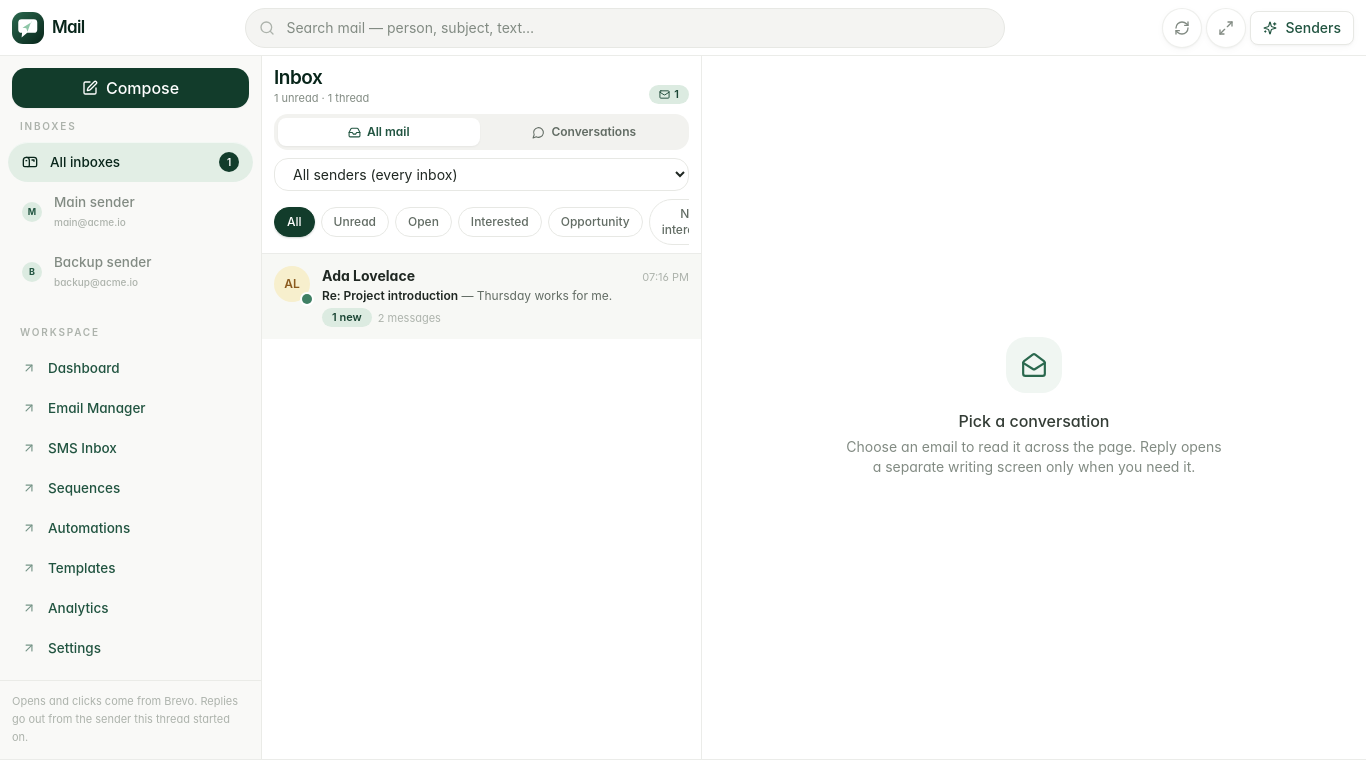
EmailInboxPage — reading first, reply on its own page › keeps the draft after a network failure and never sends it twice on a double click
Step 1. Click the button "Ada Lovelace" → [482, 297], box [262,254,701,339]
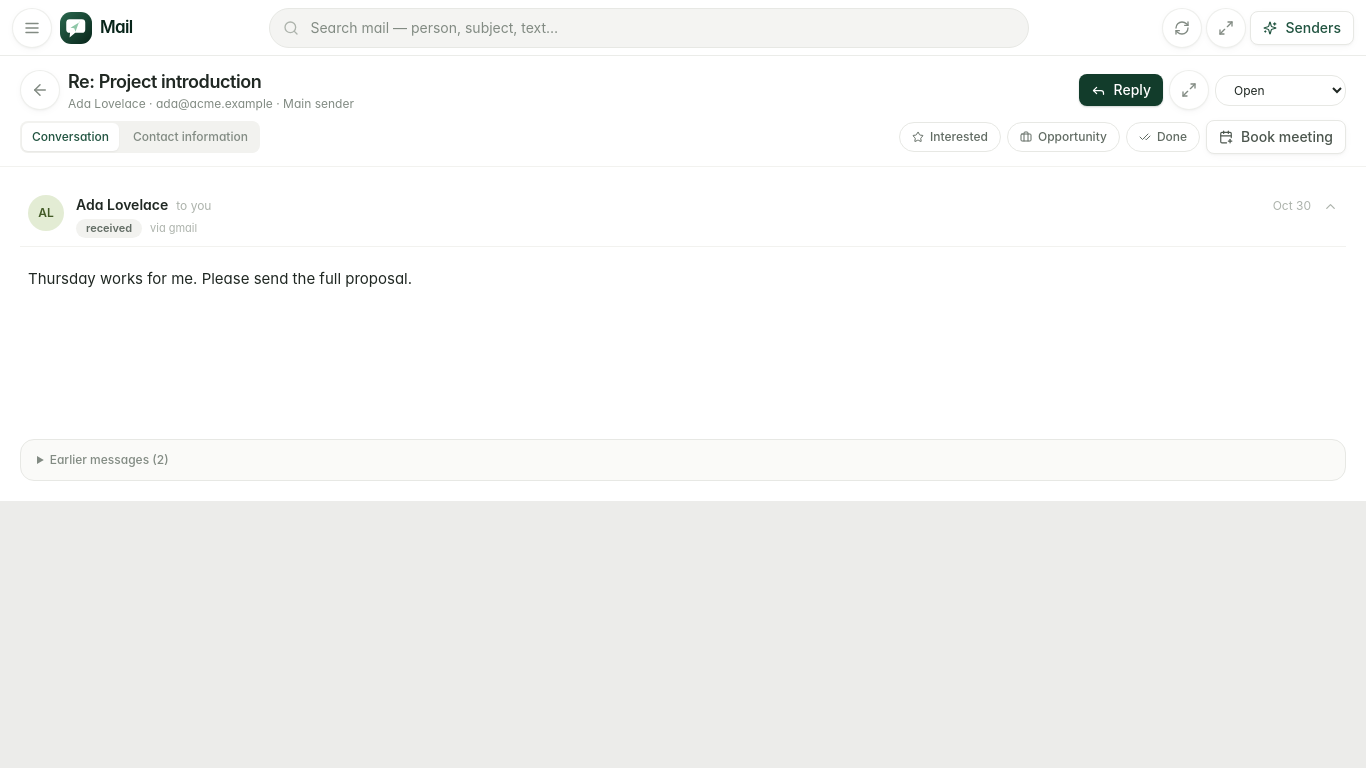
Step 2. Click the button "Reply" → [1121, 90], box [1079,74,1163,106]
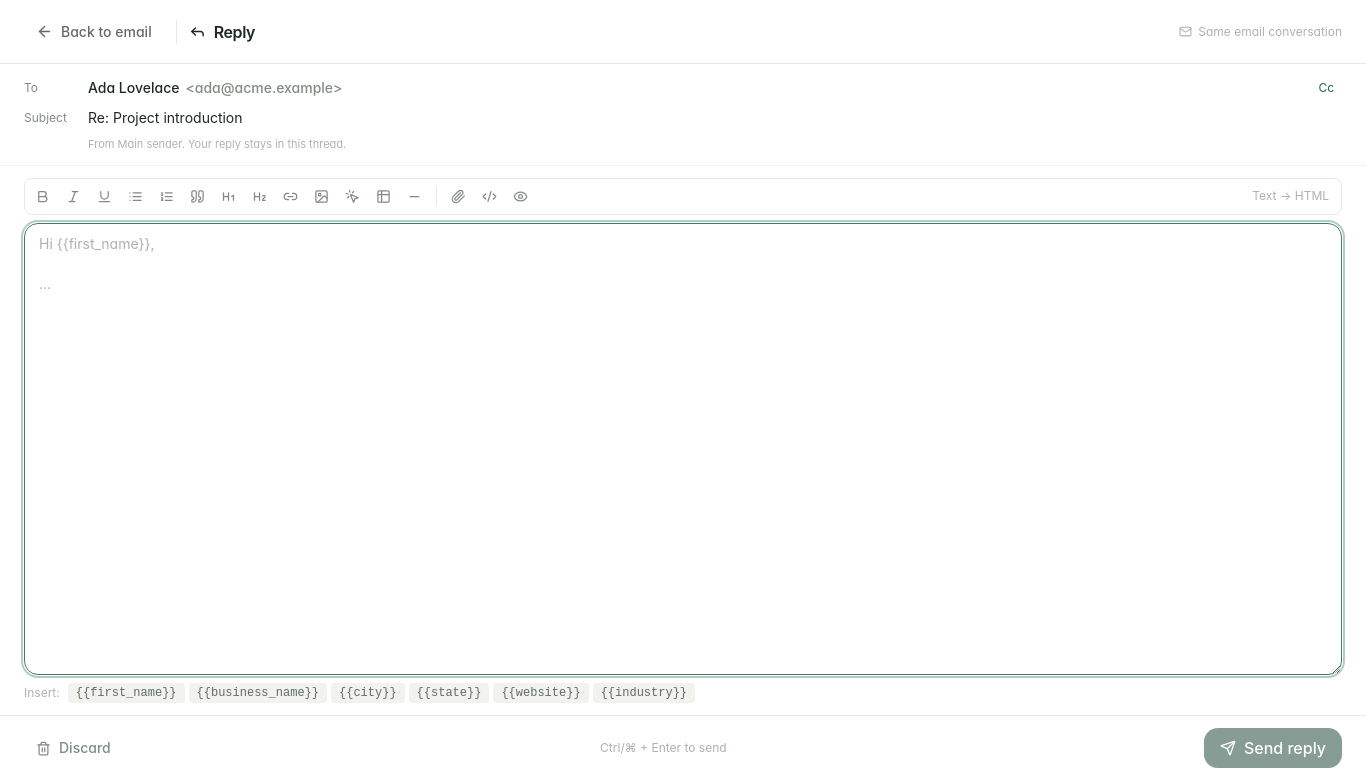
Step 3. Type "Keep this draft" into the text box named "Reply message" → [683, 449], box [24,222,1342,675]
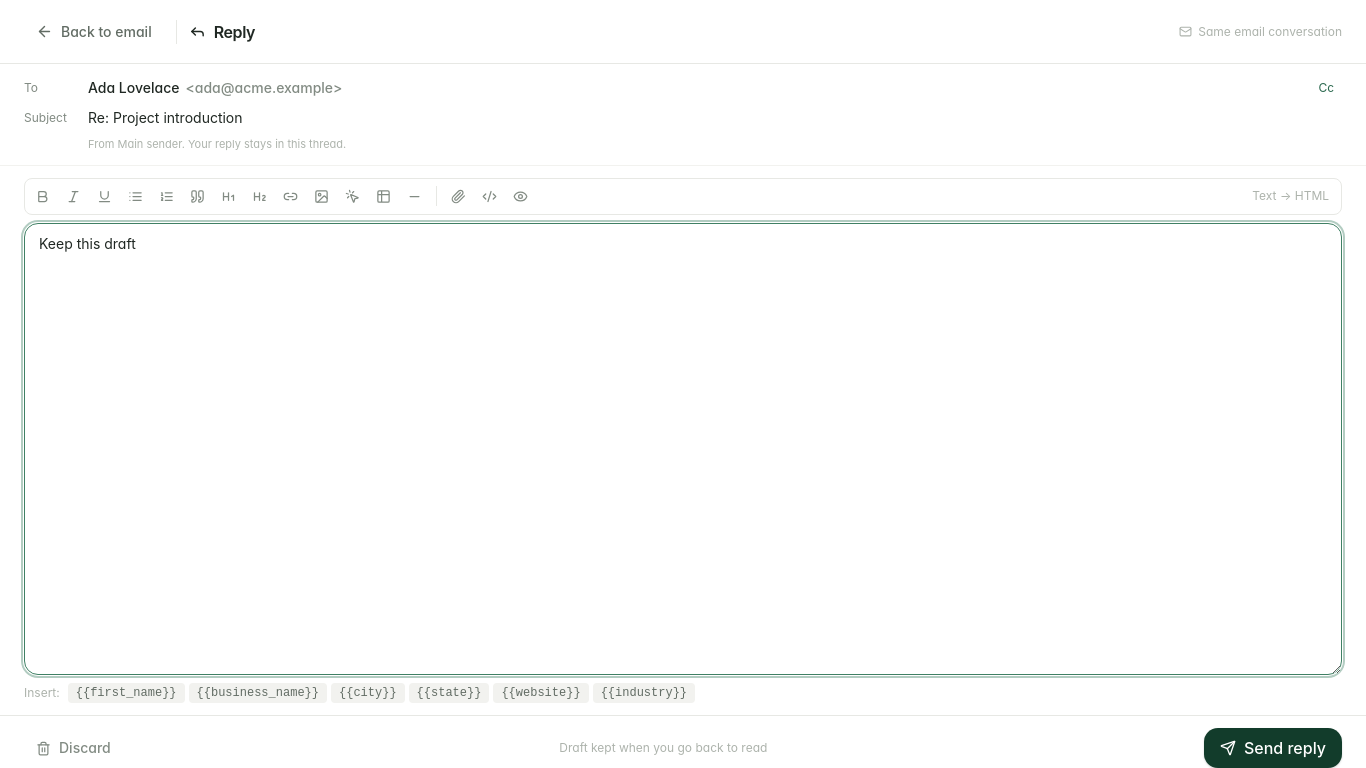
Step 4. Click the button "Send reply" → [1273, 748], box [1204,728,1342,767]
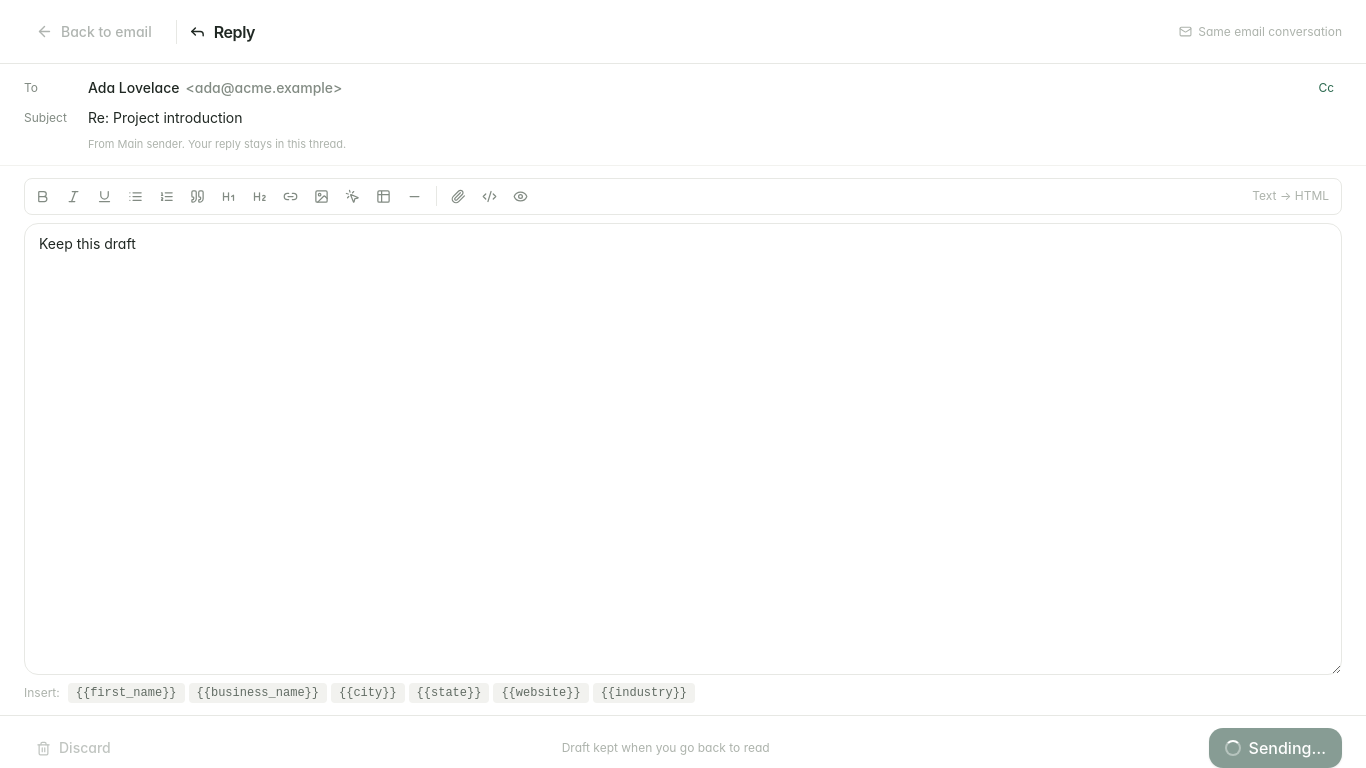
Step 5. Click the button named "Send reply" → [1275, 748], box [1209,728,1342,767]
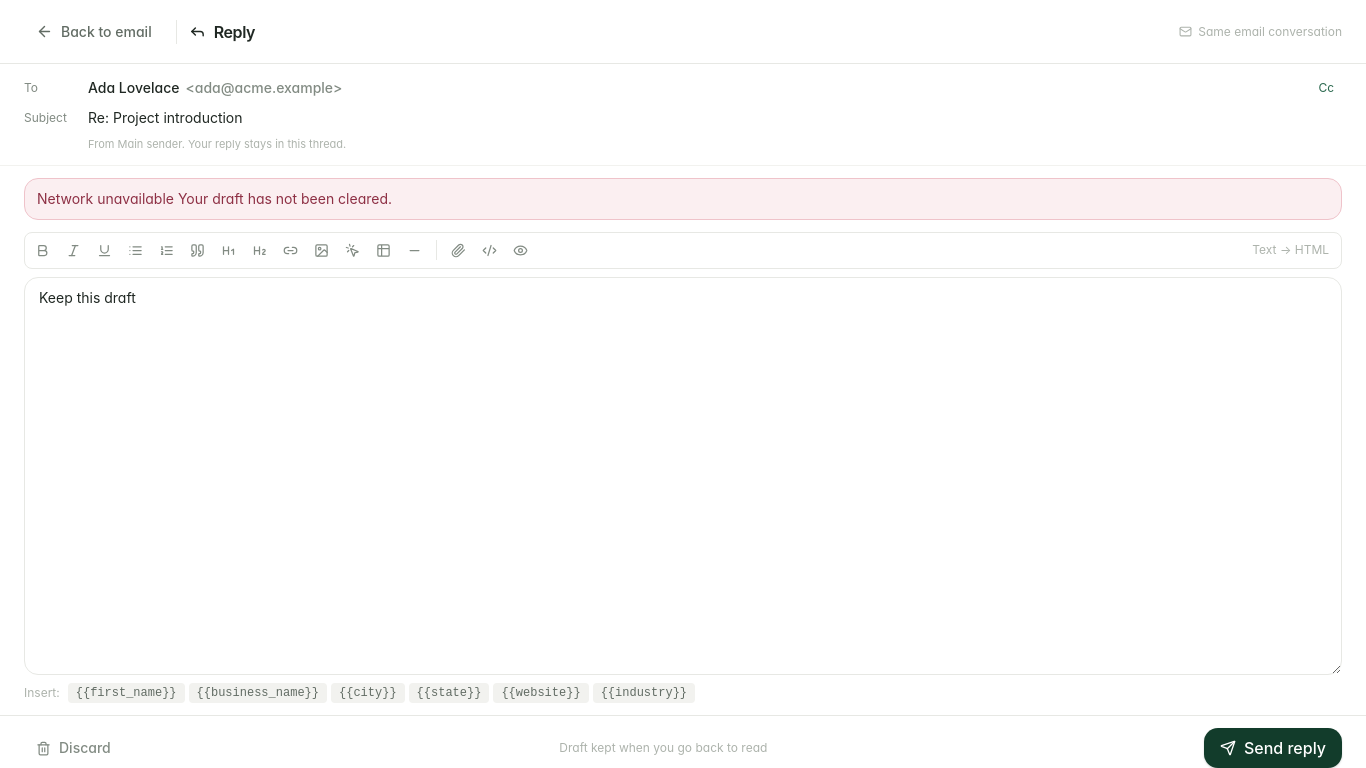
Check: the message shows "Network unavailable", box [37,190,174,206]
